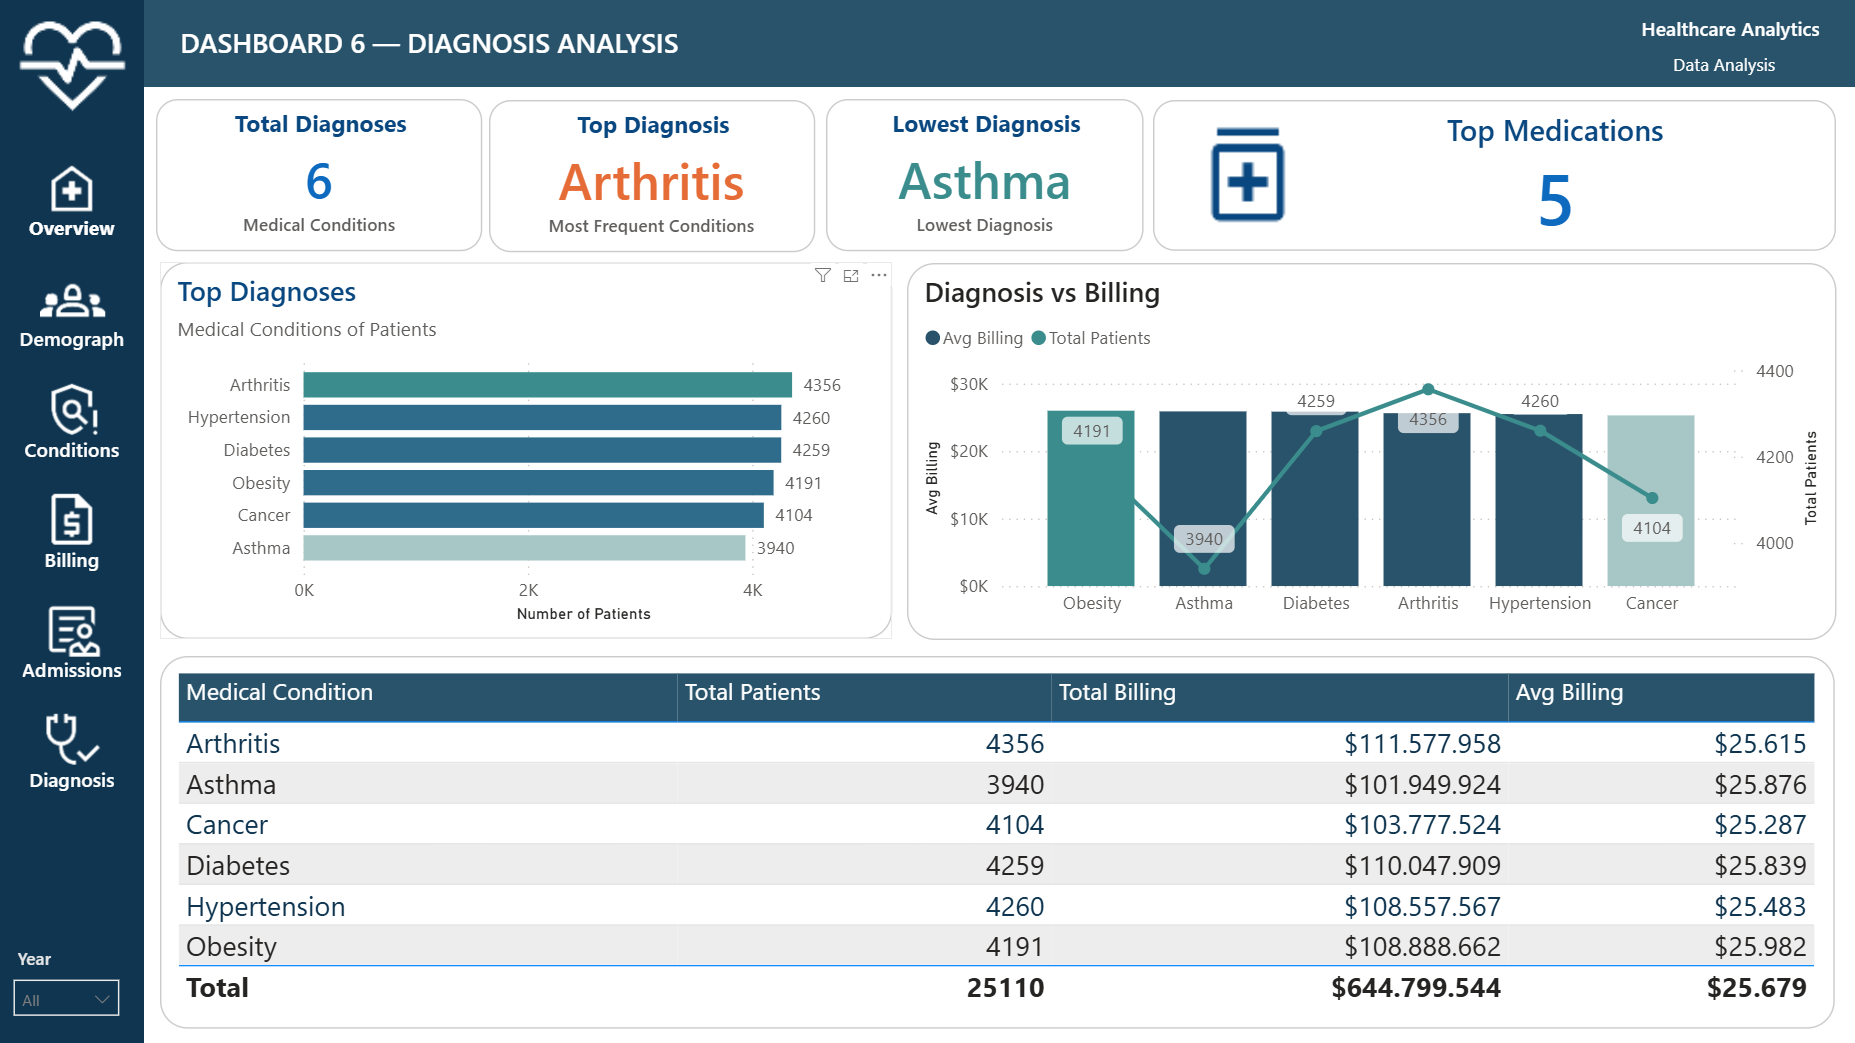

What the dashboard file says about the page in this screenshot:
{"tool":"powerbi","page":{"name":"Diagnosis","canvas":[1280,720],"ordinal":5},"visuals":[{"type":"group","id":"g1","title":"Navigation Bar","box":[0,0,100,720],"z":0},{"type":"shape","title":"Sidebar","box":[0,0,100,720],"z":1000,"group":"g1"},{"type":"shape","box":[99.9,0,1180.1,60.2],"z":1000},{"type":"actionButton","title":"NAV - Overview","box":[8.6,105,84,64],"z":1500,"group":"g1"},{"type":"textbox","title":"Left header title","box":[120,12,500.7,35],"z":2000},{"type":"actionButton","title":"NAV - Demographics","box":[8.6,181,84,64.5],"z":2000,"group":"g1"},{"type":"textbox","box":[1070.2,5.5,190.4,29.5],"z":3000},{"type":"actionButton","title":"NAV - Conditions","box":[8.6,257,84,64.5],"z":3000,"group":"g1"},{"type":"textbox","box":[1113.2,29.5,153.6,30.1],"z":4000},{"type":"actionButton","title":"NAV - Billing","box":[8.6,333,84,64.5],"z":4000,"group":"g1"},{"type":"image","box":[0.6,0,99.6,89.7],"z":5000},{"type":"actionButton","title":"NAV - Admissions","box":[8.6,409,84,64.5],"z":5000,"group":"g1"},{"type":"clusteredBarChart","title":"Top Diagnoses","fields":{"Category":["Healthcare Dataset.Medical Condition"],"Y":["Healthcare Dataset.Total Patients"]},"box":[111.3,180.6,504.7,260.4],"z":6000},{"type":"actionButton","title":"NAV - Diagnosis","box":[8.6,485,84,64.5],"z":6000,"group":"g1"},{"type":"lineClusteredColumnComboChart","title":"Diagnosis vs Billing","fields":{"Category":["Healthcare Dataset.Medical Condition"],"Y":["Healthcare Dataset.Avg Billing"],"Y2":["Healthcare Dataset.Total Patients"]},"box":[626,181.2,640.8,259.8],"z":7000},{"type":"tableEx","fields":{"Values":["Healthcare Dataset.Medical Condition","Healthcare Dataset.Total Patients","Healthcare Dataset.Total Billing","Healthcare Dataset.Avg Billing"]},"box":[111,452.4,1149.7,267.6],"z":8000},{"type":"cardVisual","title":"Total Diagnoses","fields":{"Data":["Healthcare Dataset.Total Diagnoses"]},"box":[108.1,68.2,225.3,104.7],"z":9000},{"type":"cardVisual","title":"Lowest Diagnosis","fields":{"Data":["Healthcare Dataset.Lowest Diagnosis"]},"box":[570.1,68.2,219.3,105.3],"z":10000},{"type":"cardVisual","title":"Top Diagnosis","fields":{"Data":["Healthcare Dataset.Top Diagnosis"]},"box":[337.9,68.8,224.7,104.7],"z":11000},{"type":"cardVisual","fields":{"Data":["Healthcare Dataset.Medication Count"]},"box":[796.1,68.7,470.7,103.9],"z":12000},{"type":"slicer","fields":{"Values":["Healthcare Dataset.Date of Admission.Variation.Date Hierarchy.Year"]},"box":[0,647.6,92.8,55.1],"z":13000}]}

Visuals, with their boxes in screenshot pixels (x1, y1, x2, y2), scaled from the page's 1280x720 canvas onto the 1855x1043 screenshot:
"Navigation Bar" group: [left=0, top=0, right=145, bottom=1042]
"Sidebar" shape: [left=0, top=0, right=145, bottom=1042]
shape: [left=145, top=0, right=1854, bottom=87]
"NAV - Overview" actionButton: [left=12, top=152, right=134, bottom=245]
"Left header title" textbox: [left=174, top=17, right=900, bottom=68]
"NAV - Demographics" actionButton: [left=12, top=262, right=134, bottom=356]
textbox: [left=1551, top=8, right=1827, bottom=51]
"NAV - Conditions" actionButton: [left=12, top=372, right=134, bottom=466]
textbox: [left=1613, top=43, right=1836, bottom=86]
"NAV - Billing" actionButton: [left=12, top=482, right=134, bottom=576]
image: [left=1, top=0, right=145, bottom=130]
"NAV - Admissions" actionButton: [left=12, top=592, right=134, bottom=686]
"Top Diagnoses" clusteredBarChart: [left=161, top=262, right=893, bottom=639]
"NAV - Diagnosis" actionButton: [left=12, top=703, right=134, bottom=796]
"Diagnosis vs Billing" lineClusteredColumnComboChart: [left=907, top=262, right=1836, bottom=639]
tableEx - Healthcare Dataset.Medical Condition x Healthcare Dataset.Total Patients: [left=161, top=655, right=1827, bottom=1042]
"Total Diagnoses" cardVisual: [left=157, top=99, right=483, bottom=250]
"Lowest Diagnosis" cardVisual: [left=826, top=99, right=1144, bottom=251]
"Top Diagnosis" cardVisual: [left=490, top=100, right=815, bottom=251]
cardVisual - Healthcare Dataset.Medication Count: [left=1154, top=100, right=1836, bottom=250]
slicer - Healthcare Dataset.Date of Admission.Variation.Date Hierarchy.Year: [left=0, top=938, right=134, bottom=1018]
